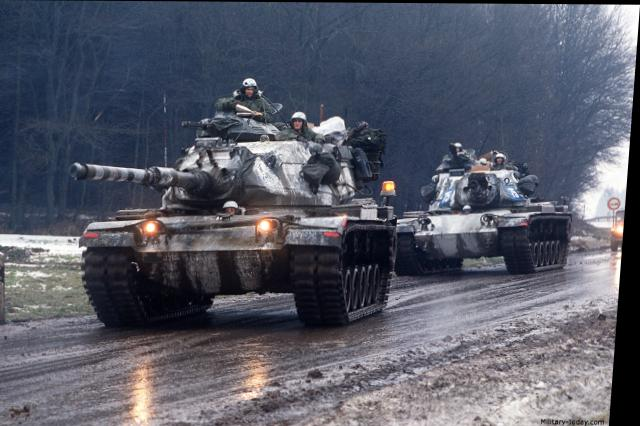other: (223, 56, 264, 132), (282, 86, 317, 147)
tank: (75, 122, 419, 323), (390, 120, 596, 276)
